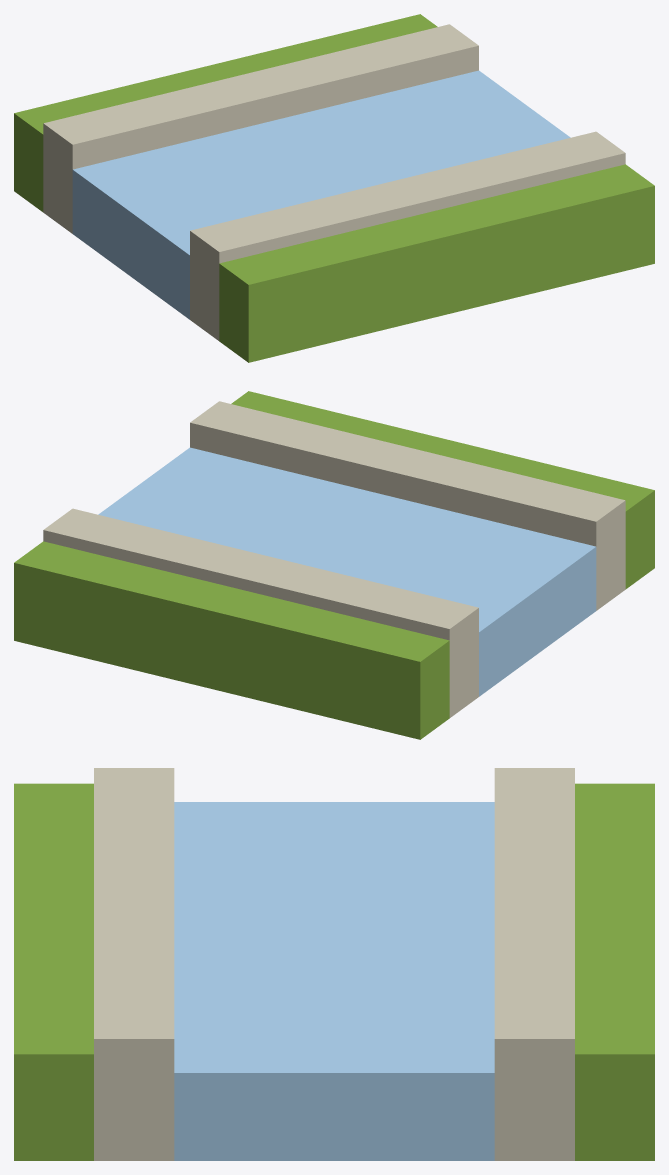
The model's file is tile201.fbx.
The picture shows the model from 3 angles, top to bottom: view 1: azimuth 30°, elevation 25°; view 2: azimuth 150°, elevation 25°; view 3: azimuth 270°, elevation 25°; orthographic projection. The views are drawn at different scales.
Parts seen in each view (by area): view 1: tile201; view 2: tile201; view 3: tile201.
Part boxes in pixels (x1=…): tile201: x1=14, y1=14, x2=654, y2=362; tile201: x1=14, y1=391, x2=654, y2=739; tile201: x1=14, y1=768, x2=654, y2=1160.
Size of the model in its own units: 10 by 2.1 by 10.
